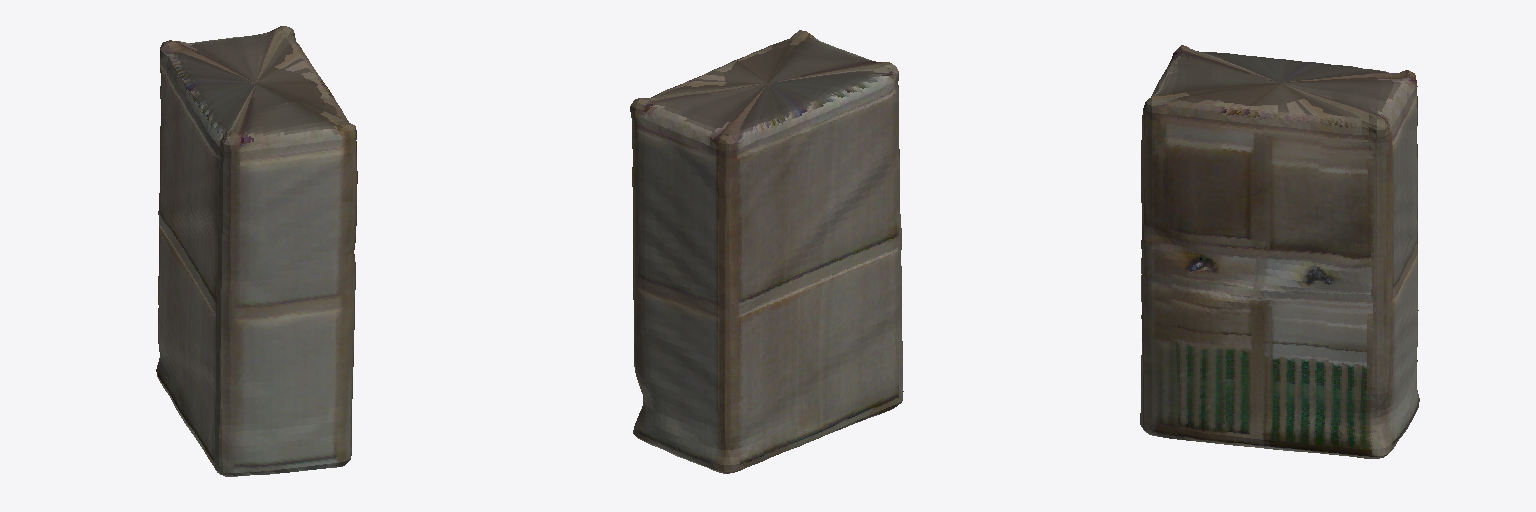
3 renders of one model, left to right at view 1: azimuth 30°, elevation 25°; view 2: azimuth 150°, elevation 25°; view 3: azimuth 270°, elevation 25°, orthographic.
Size of the model in its own units: 10.95 by 21.17 by 15.27.
1 materials, 1 textured.